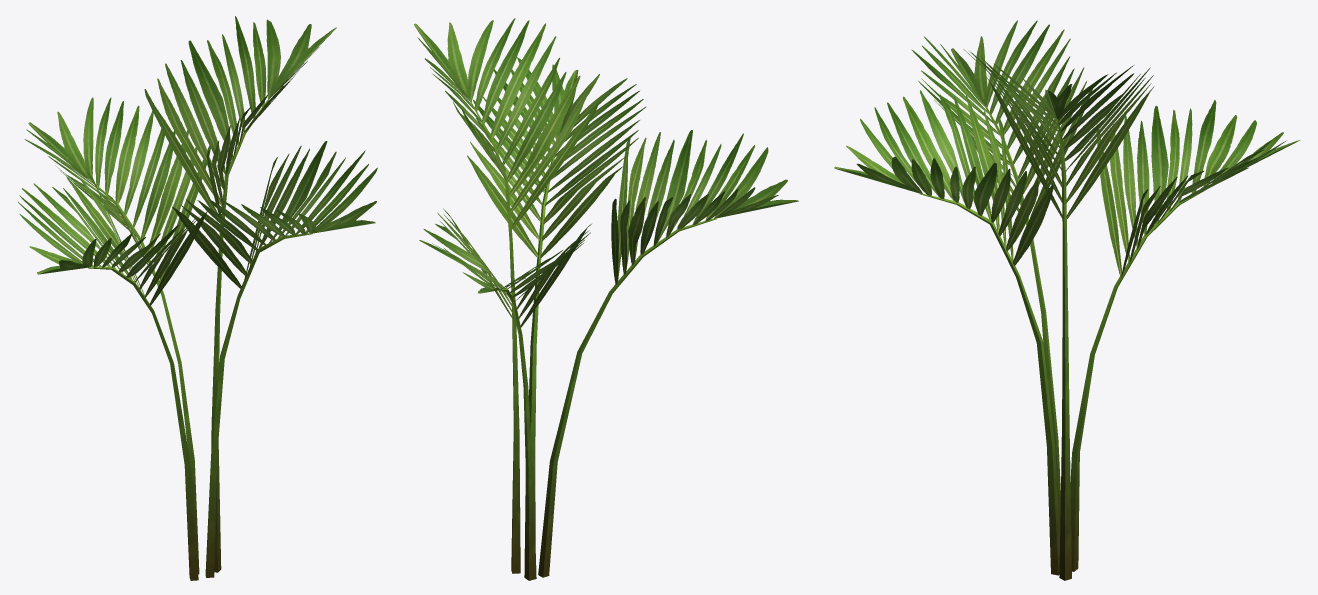
The model's file is D_Plant_009.fbx.
The picture shows the model from 3 angles, left to right: view 1: azimuth 30°, elevation 25°; view 2: azimuth 150°, elevation 25°; view 3: azimuth 270°, elevation 25°; orthographic projection. The views are drawn at different scales.
Visible parts, largest first — view 1: D_Plant_009; view 2: D_Plant_009; view 3: D_Plant_009.
Boxes of the visible parts, x1,y1,x2,y2 form: D_Plant_009: (17,16,377,580); D_Plant_009: (414,18,798,580); D_Plant_009: (834,20,1300,580).
Bounding box in the file's own units: 1.3 × 1.86 × 1.45.
1 material, 1 textured.
